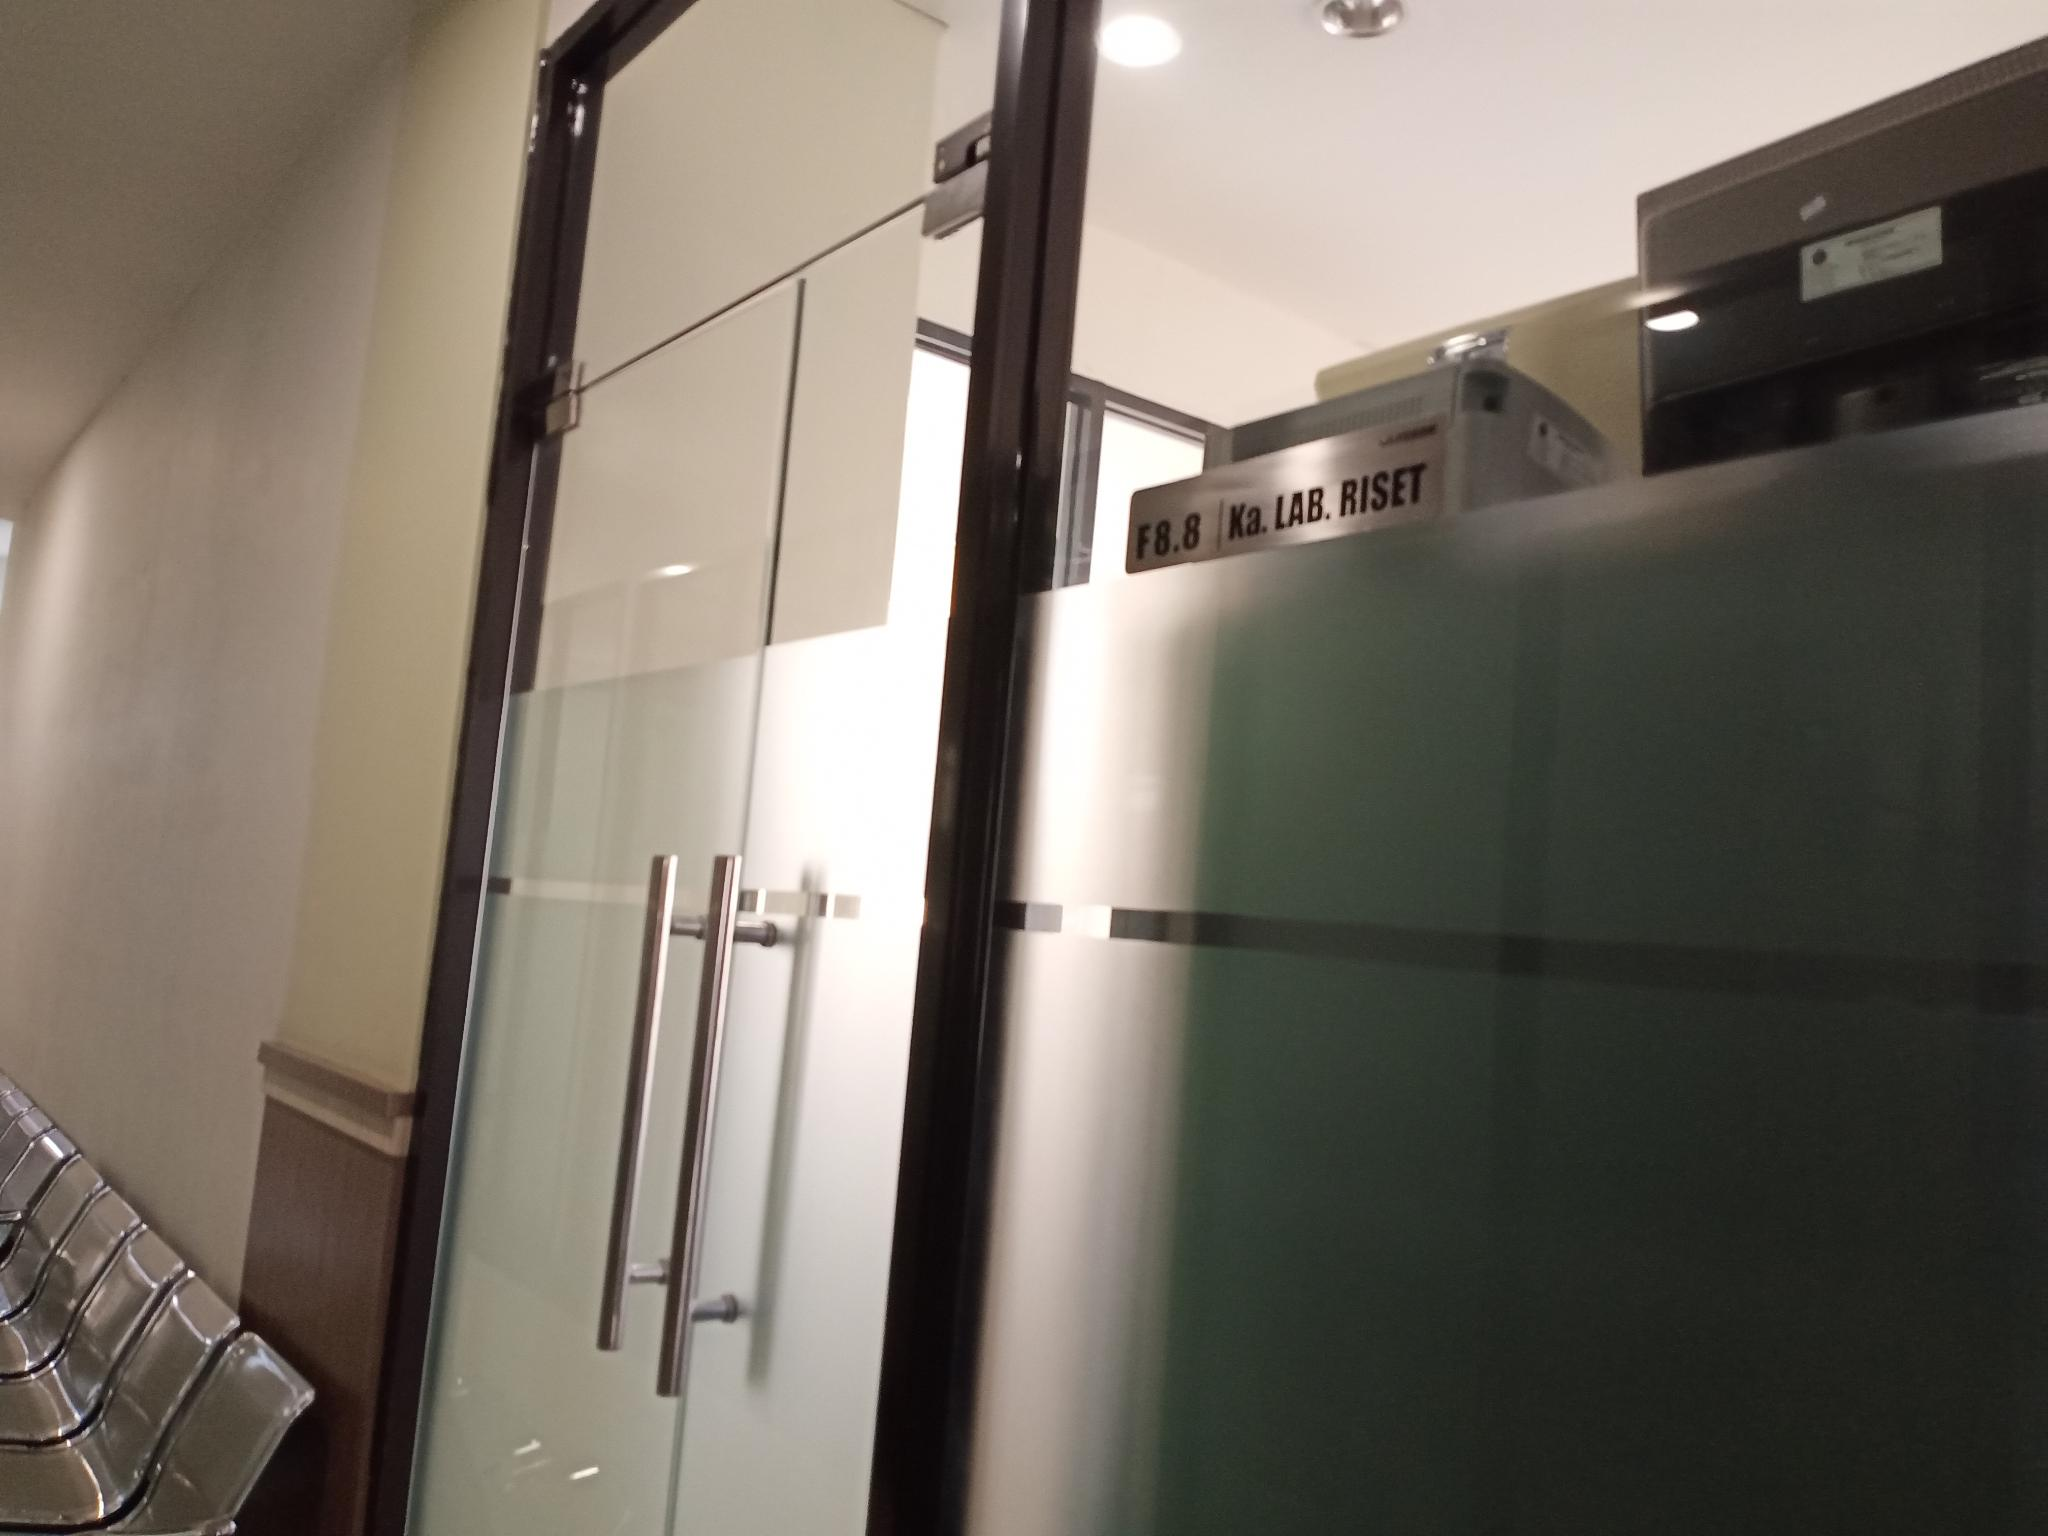plate: (1119, 408, 1451, 576)
